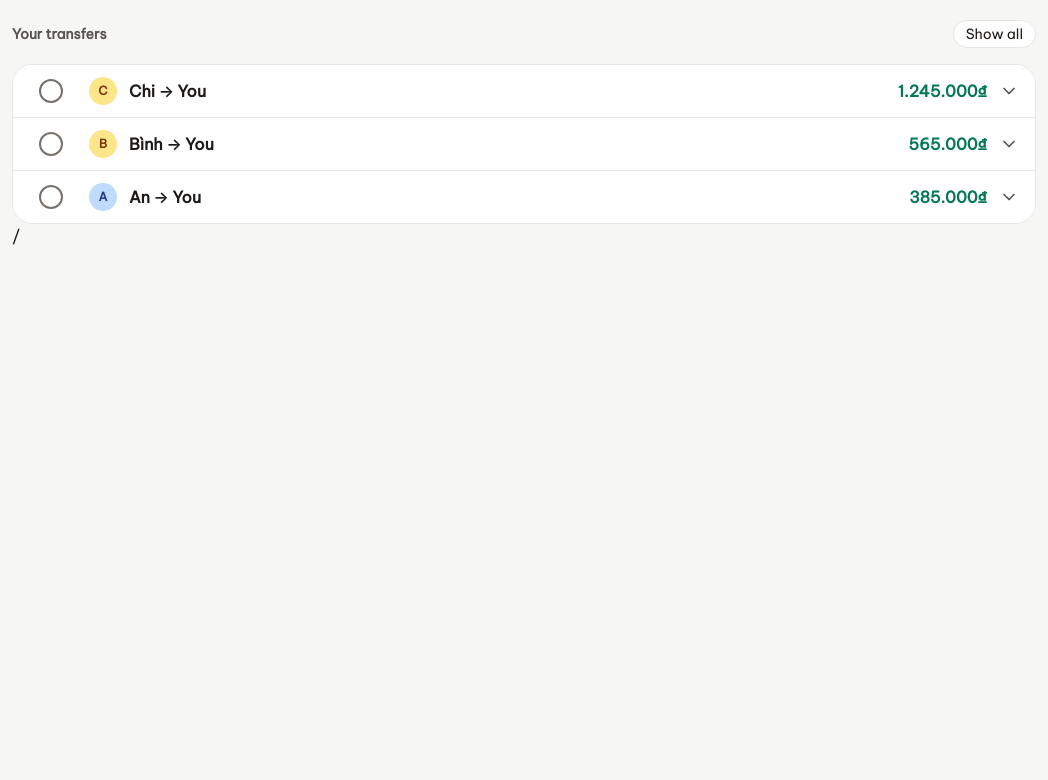
Test: Your transfers: tick to confirm › a tick someone else already recorded says so and reloads the trip
Click the button named "Mark 385.000₫ from An as received" at (51, 197), box [29,175,73,219]
Wait 5000 ms
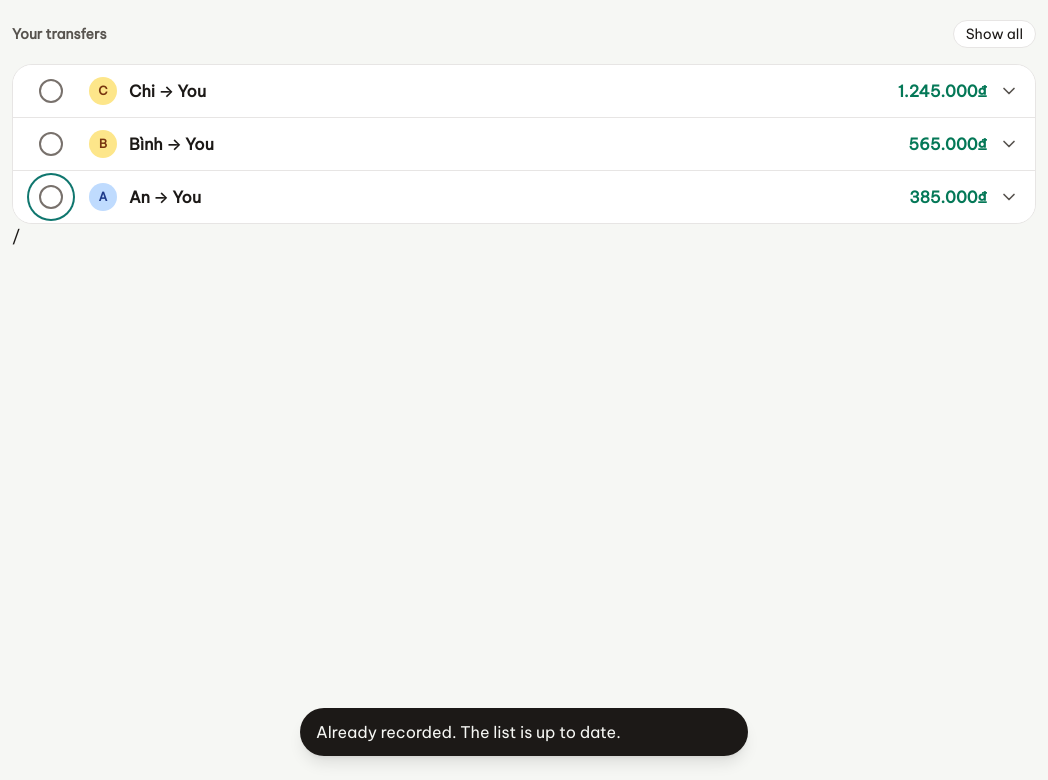
Check: the text "Already recorded. The list is up to date." is shown, box [316,722,621,742]
